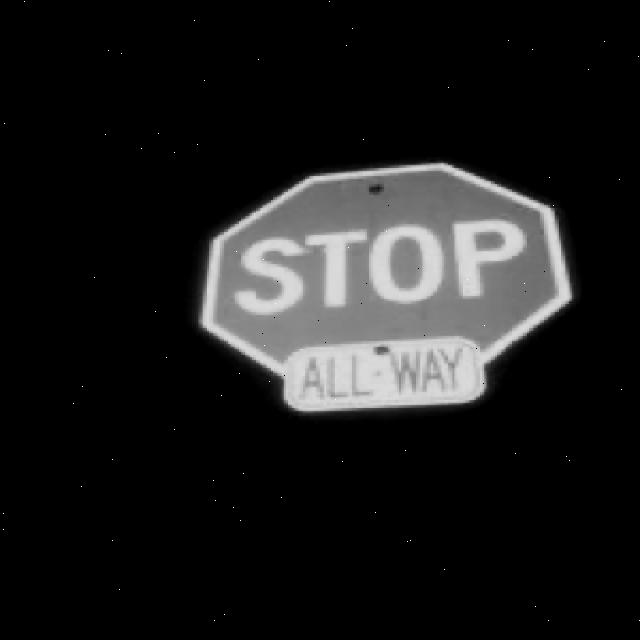Stop-signs: (205, 162, 573, 378)
